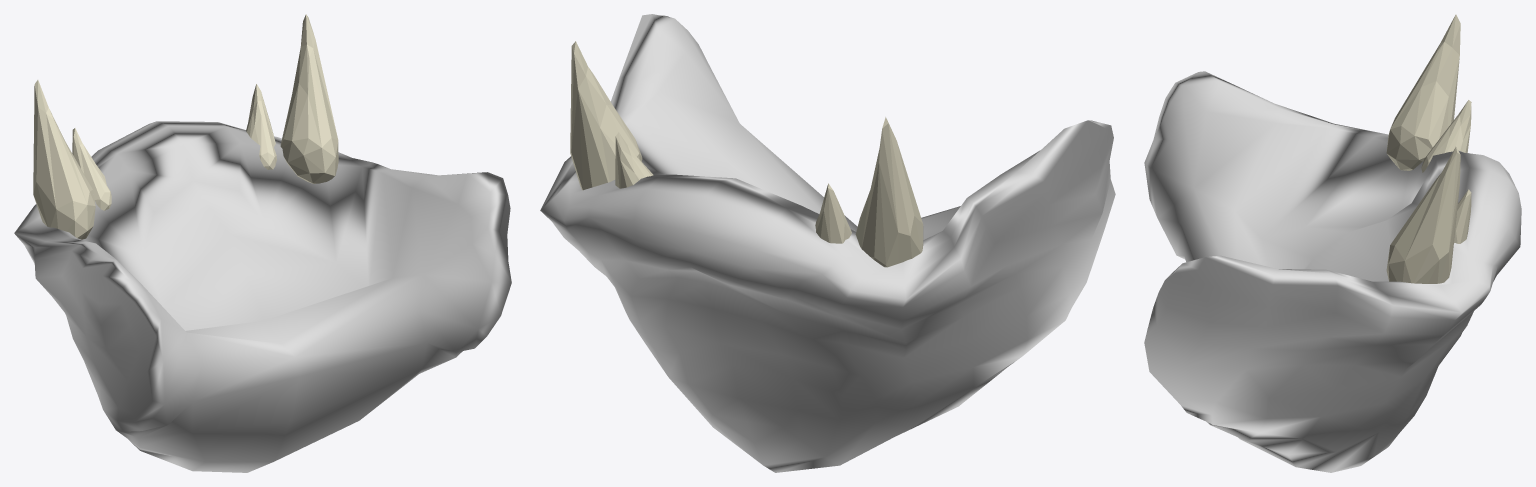
Rendered from OrcJawFat3.fbx.
3 renders of one model, left to right at view 1: azimuth 30°, elevation 25°; view 2: azimuth 150°, elevation 25°; view 3: azimuth 270°, elevation 25°, orthographic. The views are drawn at different scales.
Parts seen in each view (by area): view 1: Jaw2, teeth2Large, teeth3; view 2: Jaw2, teeth2Large, teeth3; view 3: Jaw2, teeth2Large, teeth3.
Boxes of the visible parts, box(x1,y1,x2,y2) form: Jaw2: box(14, 121, 511, 472); teeth2Large: box(33, 14, 338, 239); teeth3: box(72, 84, 276, 210); Jaw2: box(540, 14, 1115, 472); teeth2Large: box(570, 41, 923, 267); teeth3: box(615, 132, 851, 243); Jaw2: box(1144, 71, 1521, 472); teeth2Large: box(1386, 14, 1460, 283); teeth3: box(1421, 100, 1471, 243).
Size of the model in its own units: 0.1627 by 0.1455 by 0.1304.
